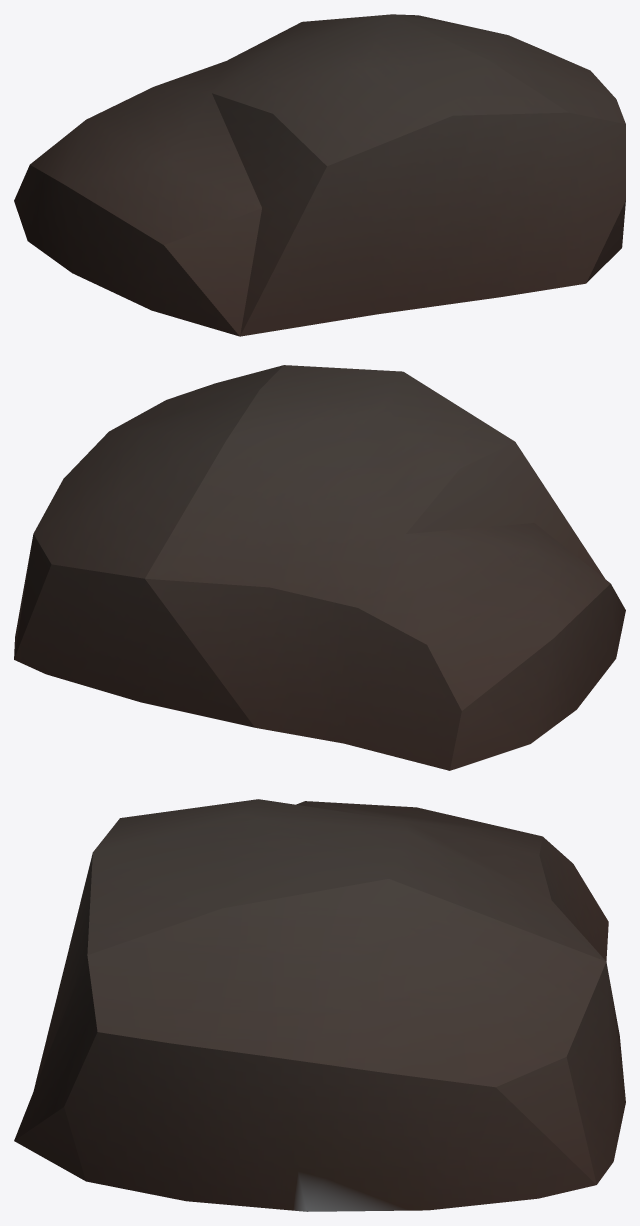
Rendered from Mountain_Stone_Dark_002.FBX.
3 renders of one model, top to bottom at view 1: azimuth 30°, elevation 25°; view 2: azimuth 150°, elevation 25°; view 3: azimuth 270°, elevation 25°, orthographic. The views are drawn at different scales.
Parts seen in each view (by area): view 1: Mountain_Stone_Dark_002; view 2: Mountain_Stone_Dark_002; view 3: Mountain_Stone_Dark_002.
Boxes of the visible parts, box(x1,y1,x2,y2) form: Mountain_Stone_Dark_002: box(14, 14, 625, 336); Mountain_Stone_Dark_002: box(14, 365, 625, 770); Mountain_Stone_Dark_002: box(14, 799, 625, 1211).
Size of the model in its own units: 549 by 198 by 458.
Materials: 1 (1 with a texture image).
